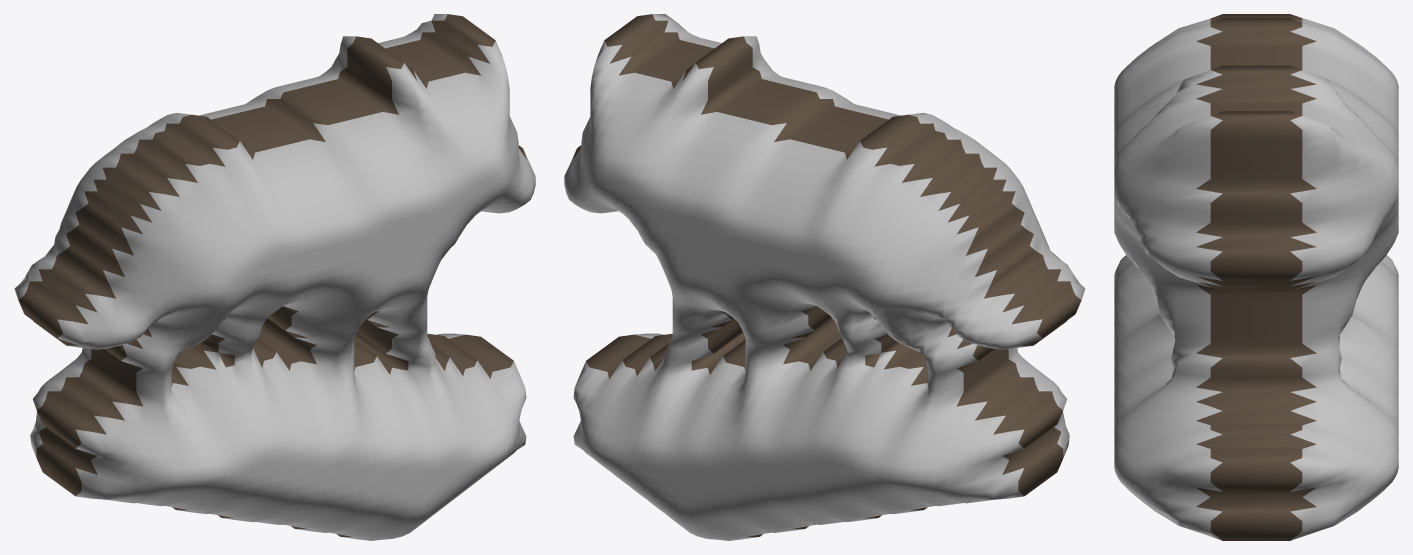
File: stuffed_wolf.glb
3 views of the same model, side by side, from view 1: azimuth 30°, elevation 25°; view 2: azimuth 150°, elevation 25°; view 3: azimuth 270°, elevation 25° (orthographic). The views are drawn at different scales.
Visible parts, largest first — view 1: stuffed_wolf; view 2: stuffed_wolf; view 3: stuffed_wolf.
Part boxes in pixels (x1=…): stuffed_wolf: x1=14, y1=14, x2=535, y2=540; stuffed_wolf: x1=564, y1=14, x2=1085, y2=540; stuffed_wolf: x1=1114, y1=14, x2=1398, y2=540.
Bounding box in the file's own units: 0.816 × 0.784 × 0.4209.
